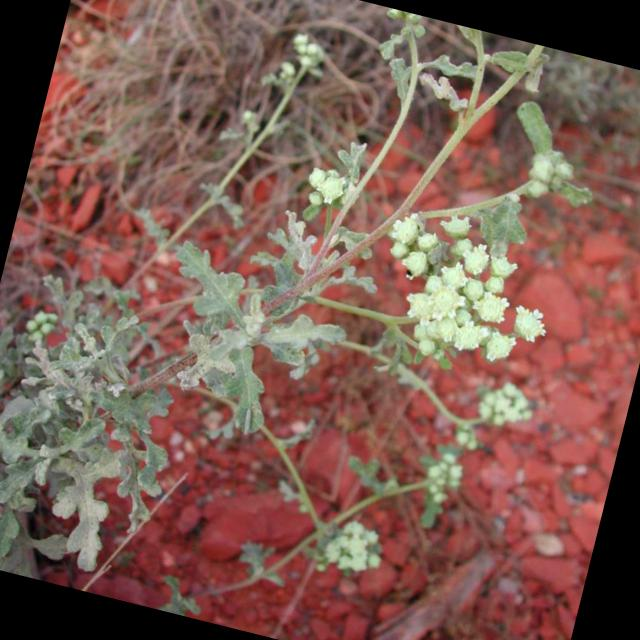Poisonous-Parthenium: (155, 38, 611, 608), (0, 262, 206, 603)
